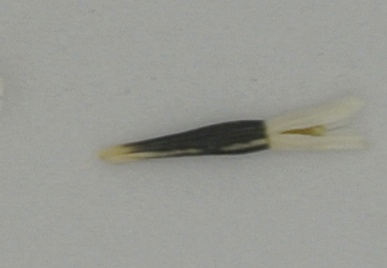เมล็ดดีติดกัน: (98, 93, 370, 168)
